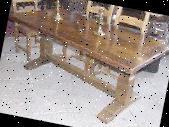Mesa: (0, 0, 168, 126)
Silla: (59, 0, 116, 70), (0, 0, 62, 64), (99, 4, 149, 81)
